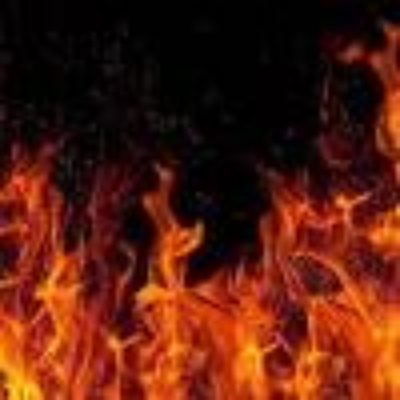firew: (5, 146, 394, 398)
